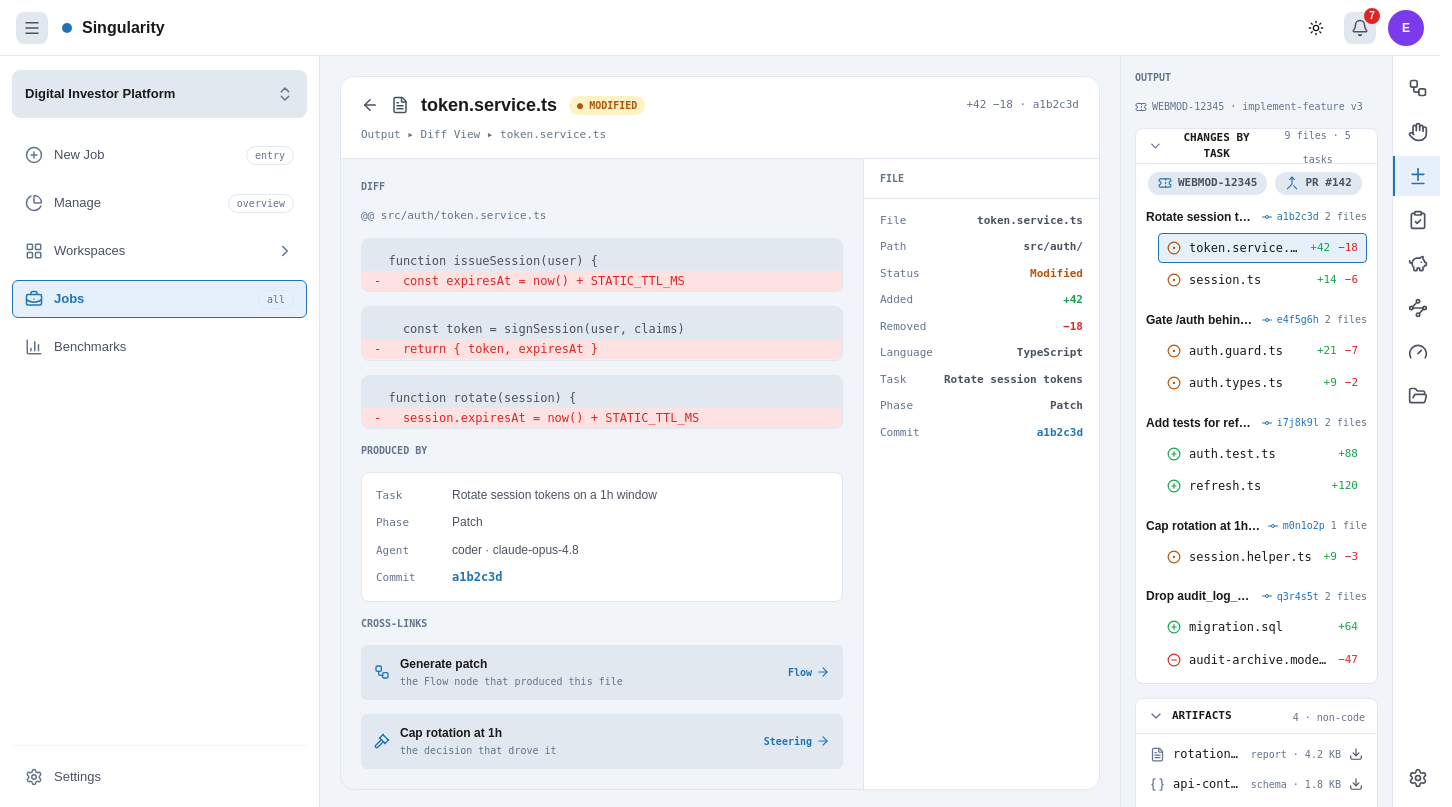
Test case: Output section › cross-links to the steering decision
The width and height of the screenshot is (1452, 807).
Expected: the heading "token.service.ts" is shown, [421,91,557,119]
Click the link "Cap rotation at 1h the decision that drove it Steering" at (451, 733), box [361,714,843,769]
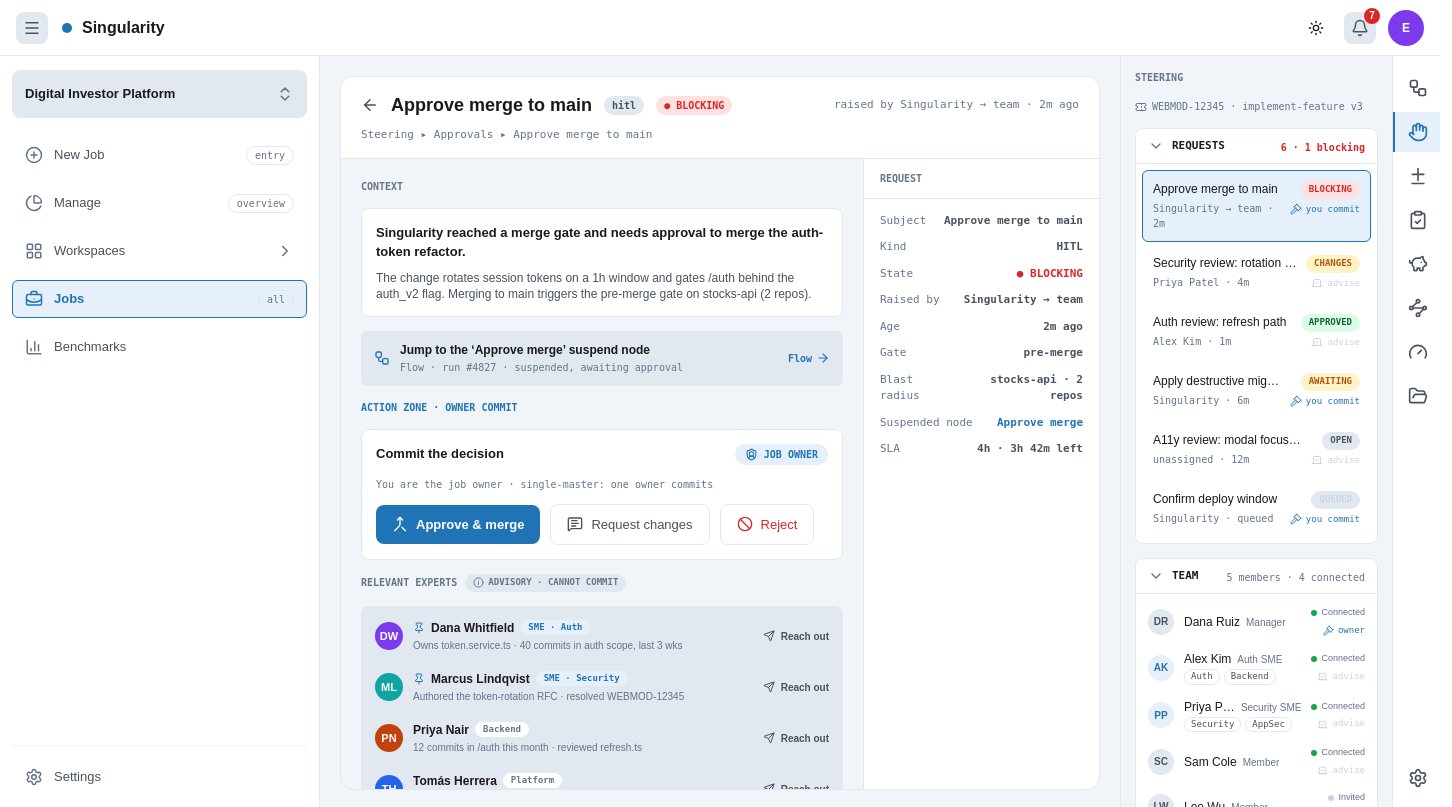
Expected: the heading "Approve merge to main" is shown, [391,91,592,119]
